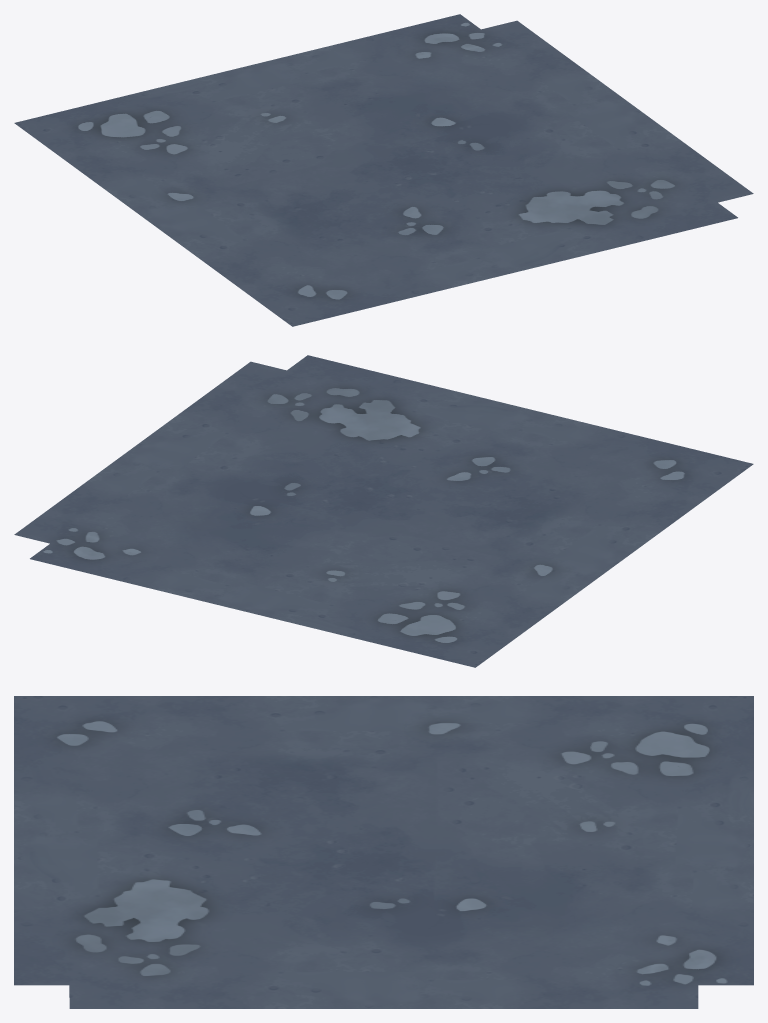
File: dungeon_ground_corner2.FBX
3 views of the same model, one above another, from view 1: azimuth 30°, elevation 25°; view 2: azimuth 150°, elevation 25°; view 3: azimuth 270°, elevation 25° (orthographic). The views are drawn at different scales.
Parts seen in each view (by area): view 1: Object123; view 2: Object123; view 3: Object123.
Part boxes in pixels (box(x1,y1,x2,y2)): Object123: box(14, 14, 753, 326); Object123: box(14, 355, 753, 667); Object123: box(14, 696, 753, 1008).
Bounding box in the file's own units: 1000 × 6.12e-14 × 1000.
Materials: 1 (1 with a texture image).
